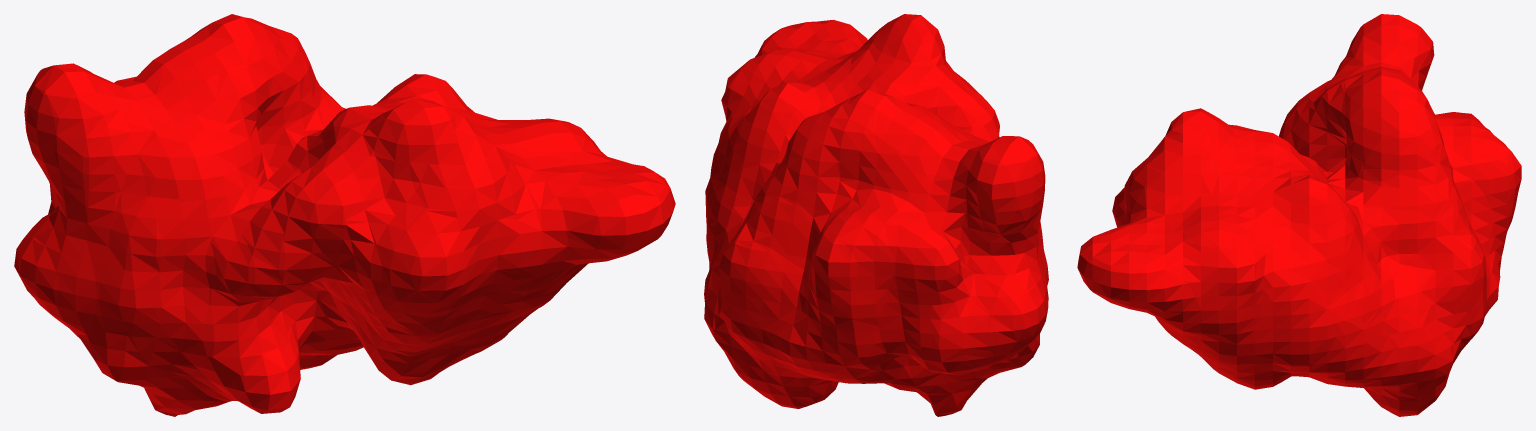
File: aroB_coarse.dae
3 renders of one model, left to right at view 1: azimuth 30°, elevation 25°; view 2: azimuth 150°, elevation 25°; view 3: azimuth 270°, elevation 25°, orthographic. The views are drawn at different scales.
Parts seen in each view (by area): view 1: aroB; view 2: aroB; view 3: aroB.
Part boxes in pixels (x1=…): aroB: x1=14, y1=14, x2=675, y2=416; aroB: x1=704, y1=14, x2=1048, y2=416; aroB: x1=1077, y1=14, x2=1521, y2=416.
Size of the model in its own units: 67.79 by 50.49 by 65.98.
